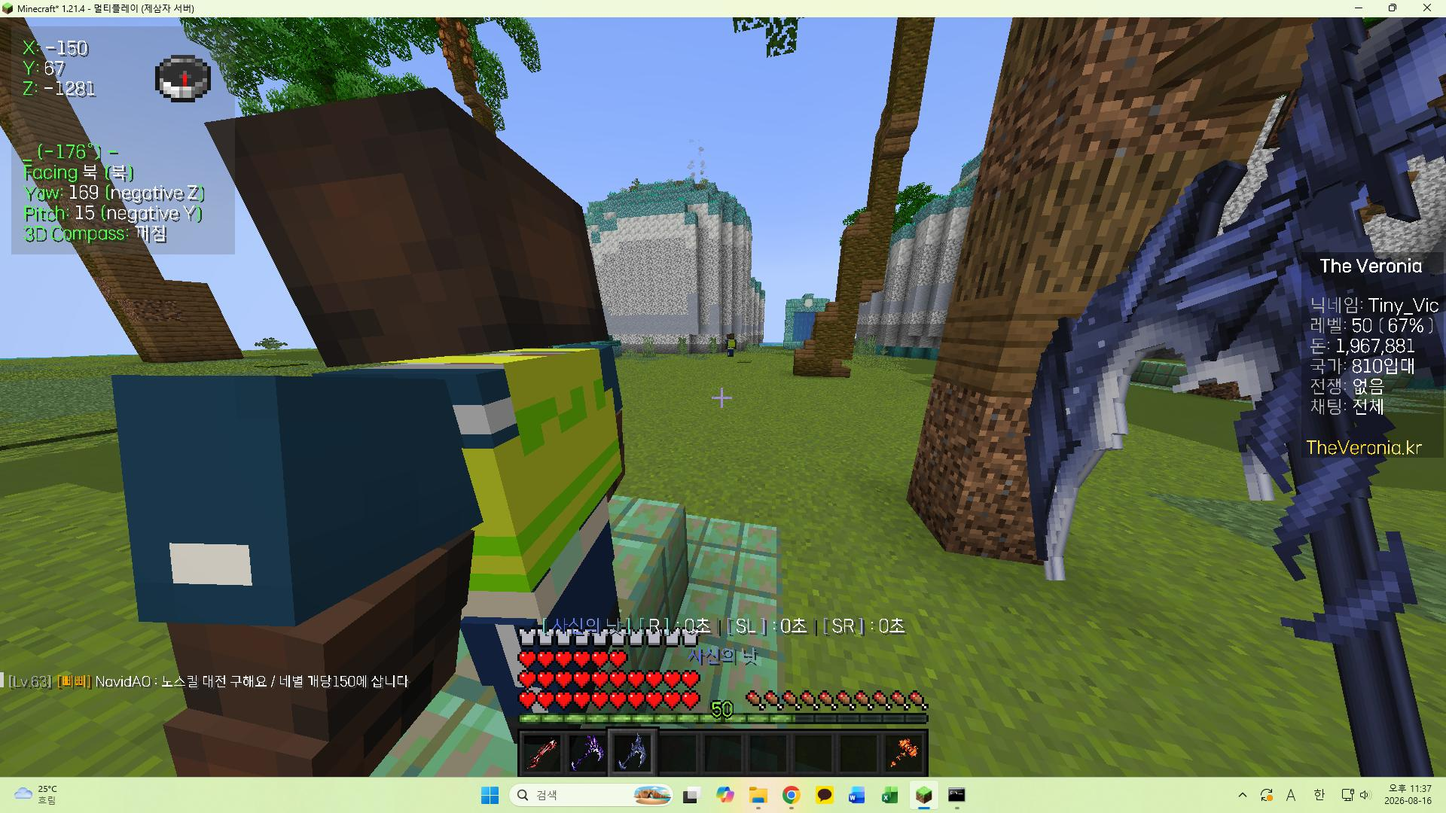Guardian: (115, 89, 621, 775)
